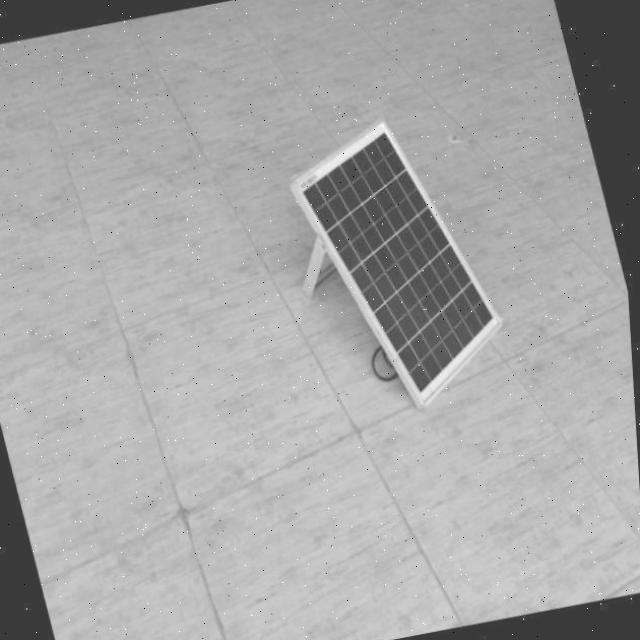Normal Solar Panel: (288, 104, 522, 420)
